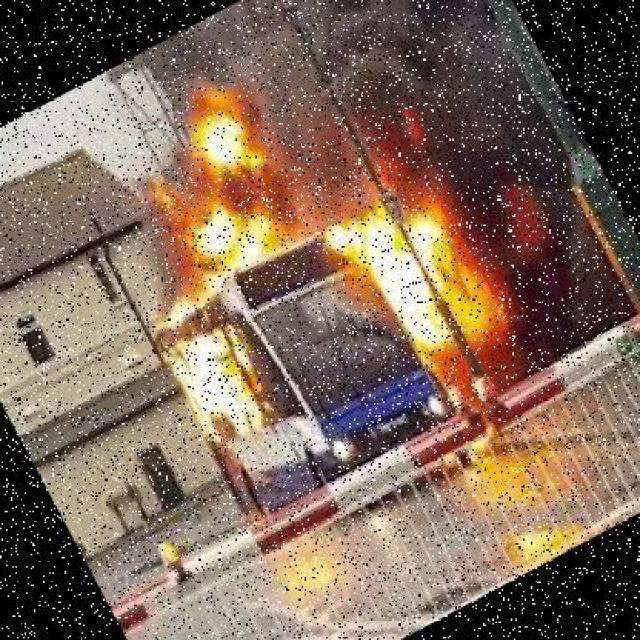fire: (62, 65, 340, 340), (308, 157, 530, 412), (144, 300, 288, 455)
